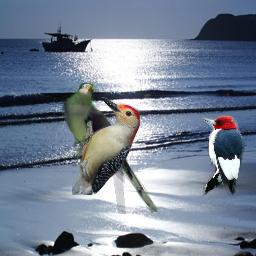Cuckoo: (62, 82, 164, 214)
Woodpecker: (72, 97, 140, 195), (202, 113, 245, 198)
